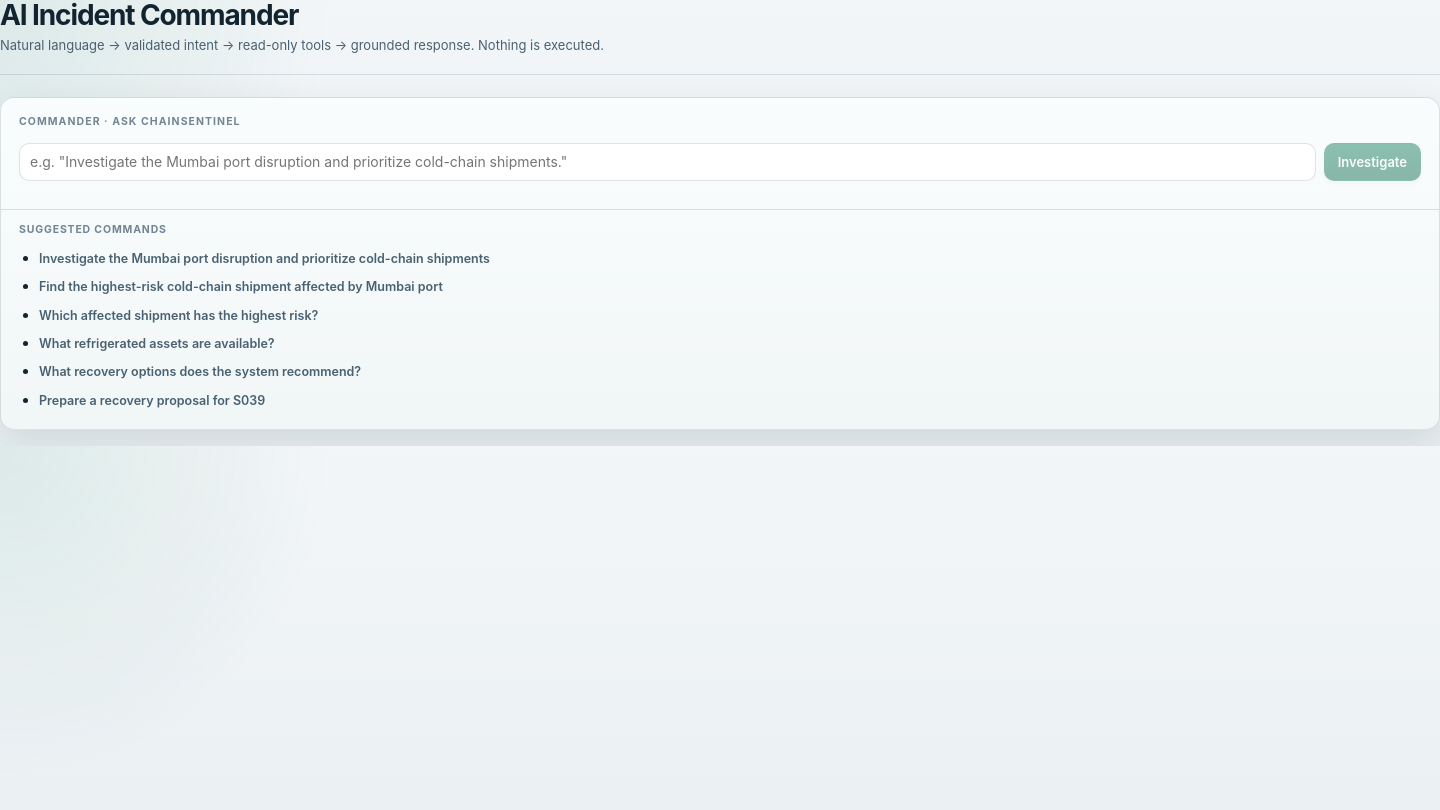
Test case: AI Incident Commander screen › renders the feature-disabled state without investigation details
The width and height of the screenshot is (1440, 810).
Replace the text in the field with placeholder "Investigate the Mumbai" with "Investigate the Mumbai port disruption and prioritize cold-chain shipments.": (667, 162) [19,143,1316,181]
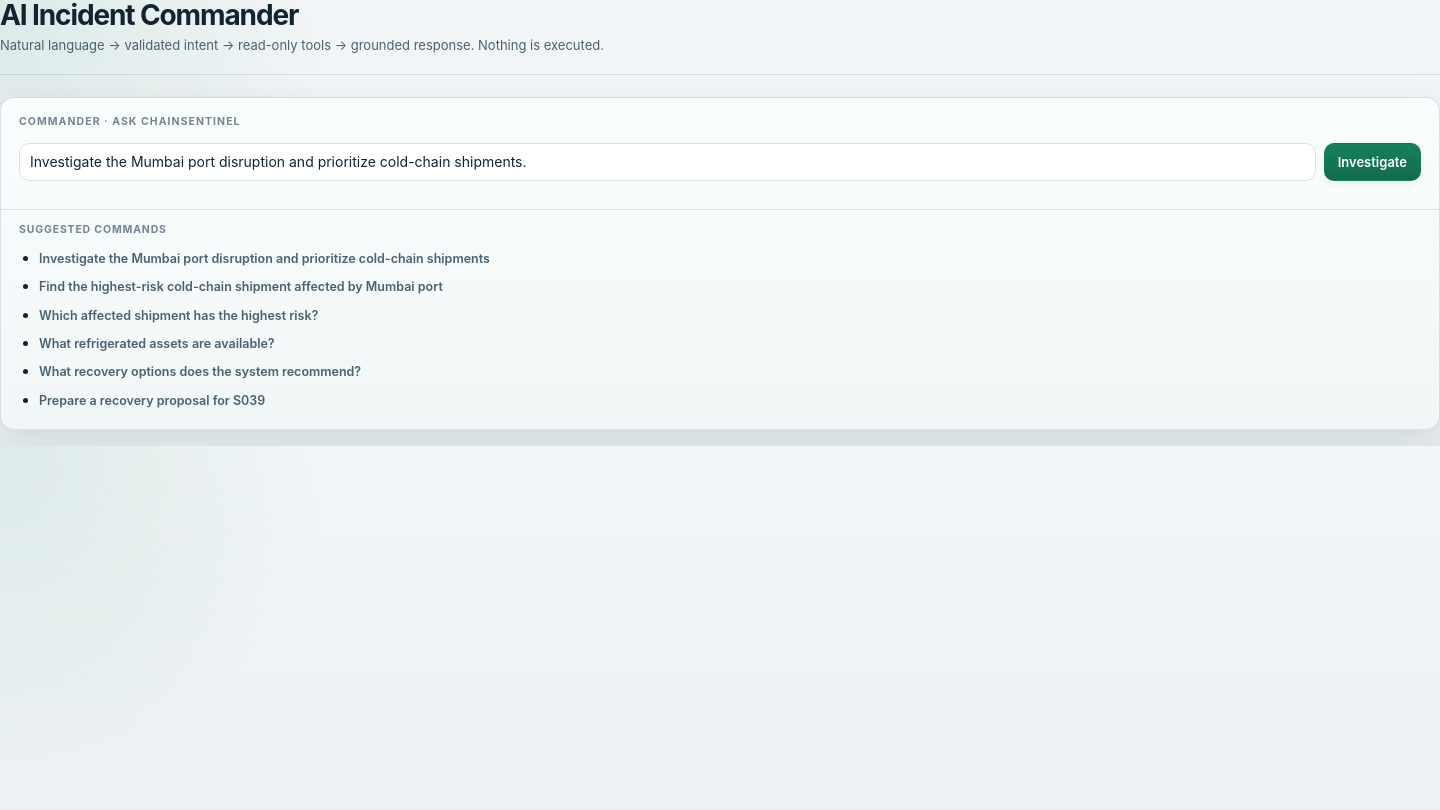
Click the button "Investigate": (1372, 162) [1324,143,1421,181]
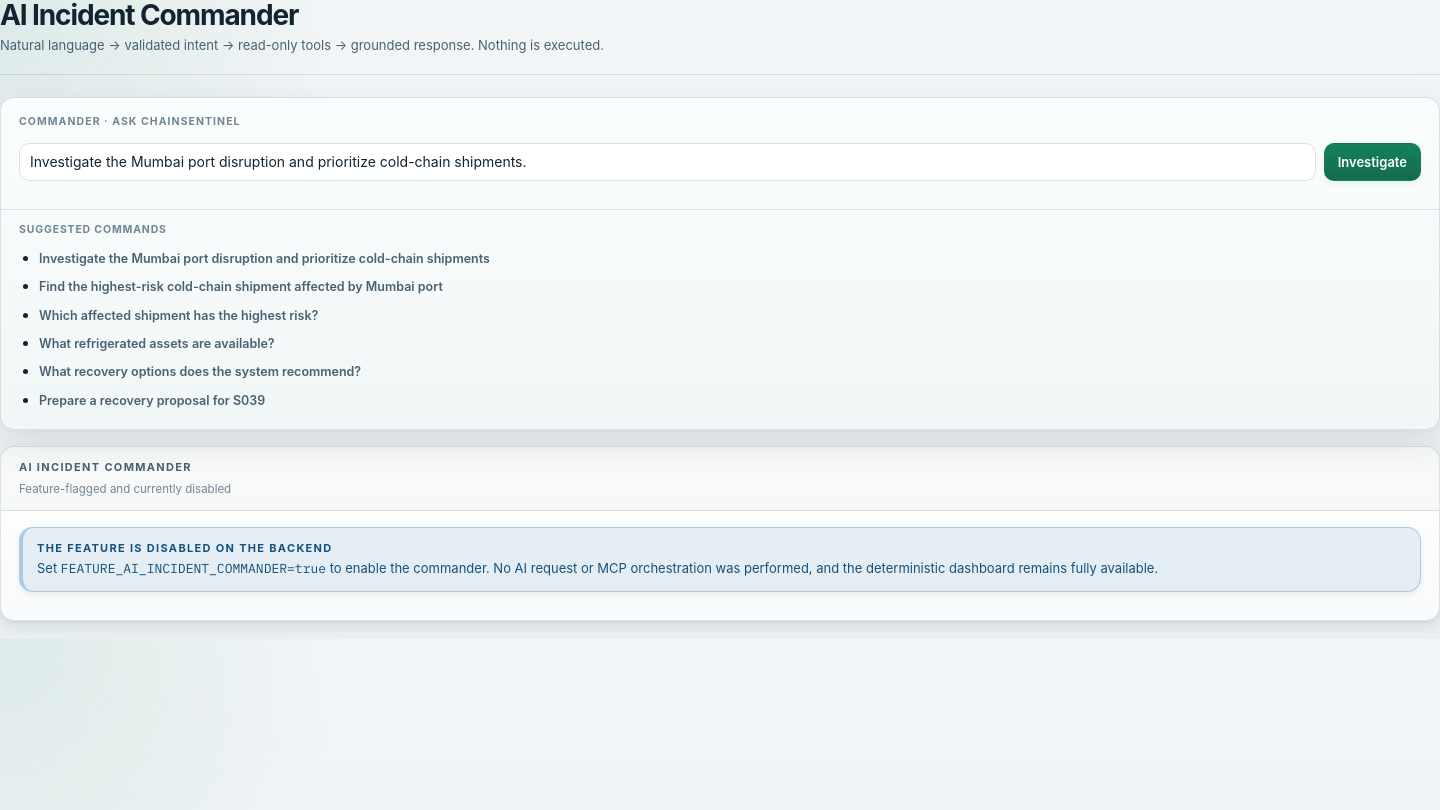
Expected: the text "The feature is disabled on the backend" is shown, [37,541,333,555]
Expected: the text "FEATURE_AI_INCIDENT_COMMANDER=true" is shown, [61,560,326,577]
